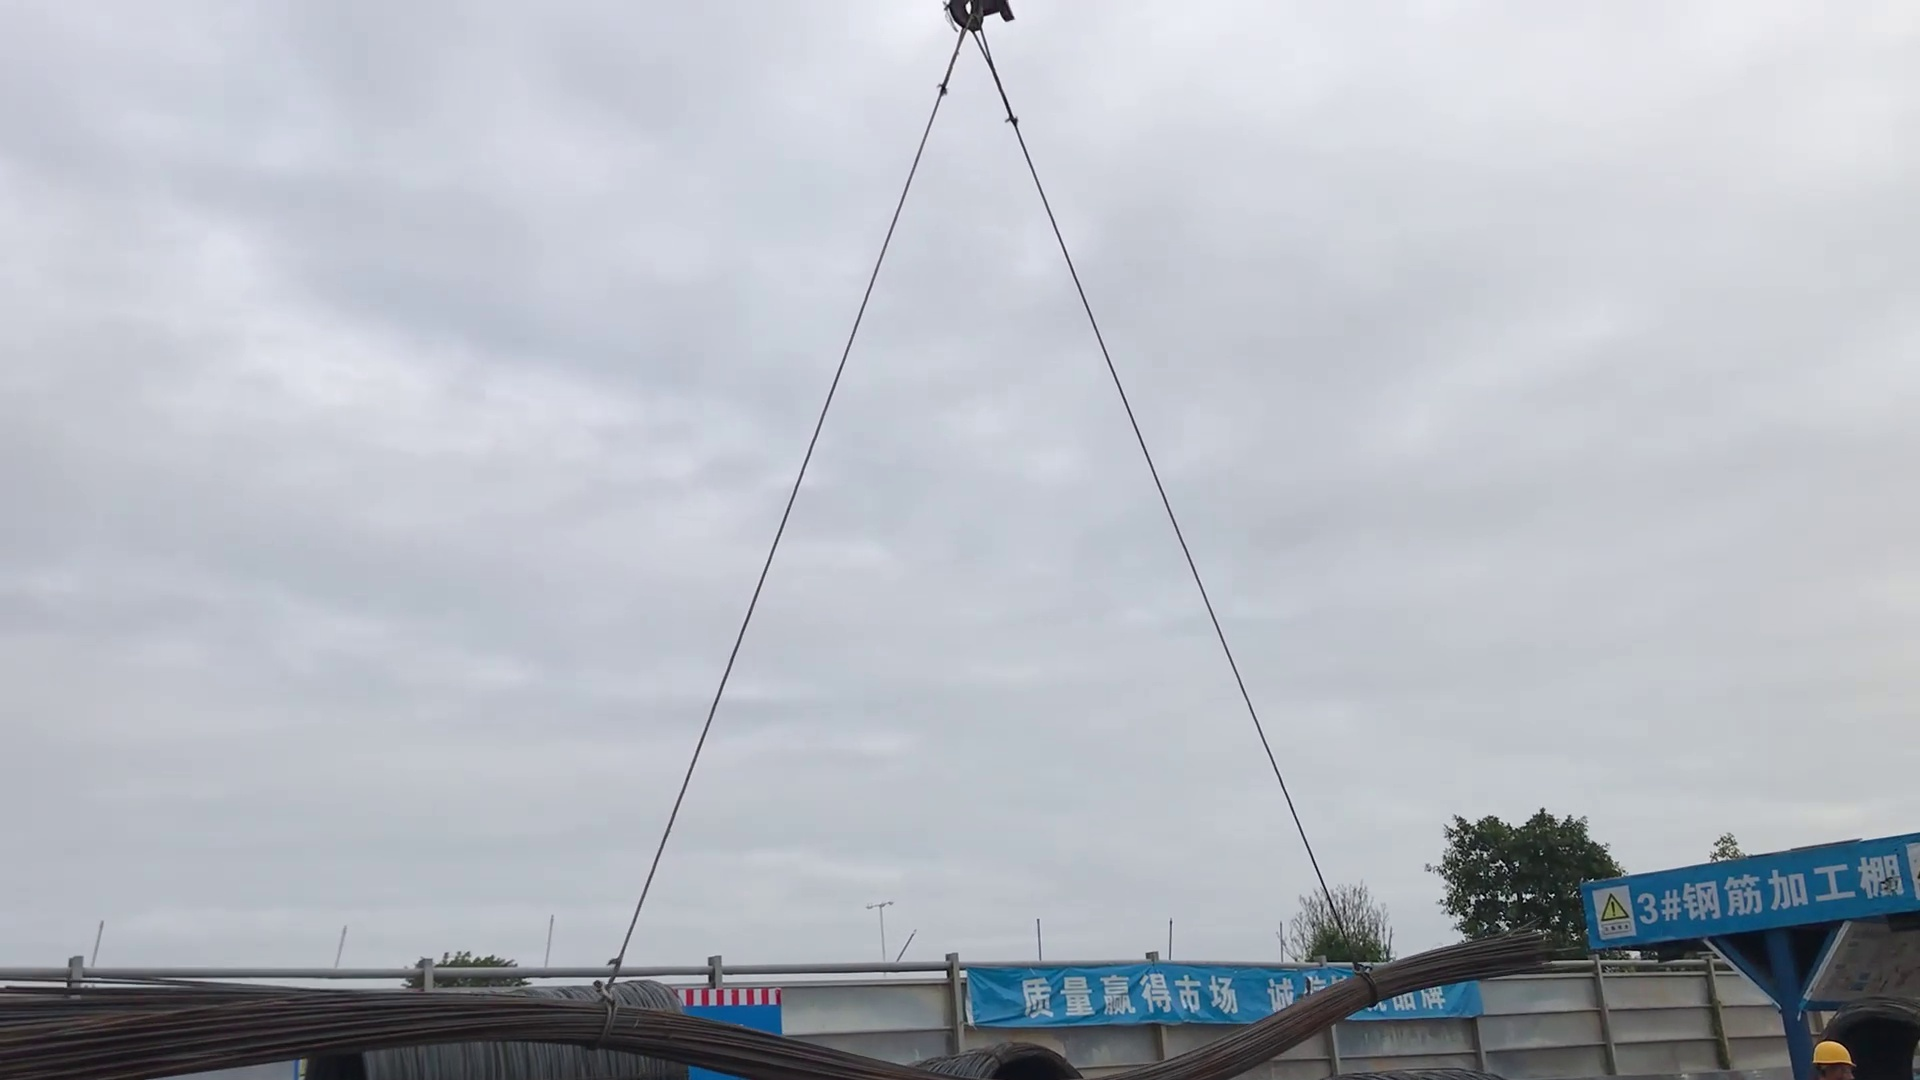helmet: (1812, 1040, 1855, 1068)
hook: (930, 1, 1029, 44)
rebar: (1, 923, 1549, 1080)
slogan: (964, 964, 1474, 1029)
